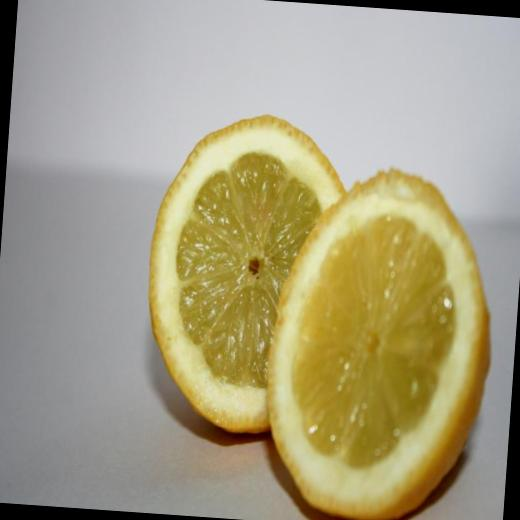Grape: (261, 170, 503, 520), (128, 114, 344, 462)
